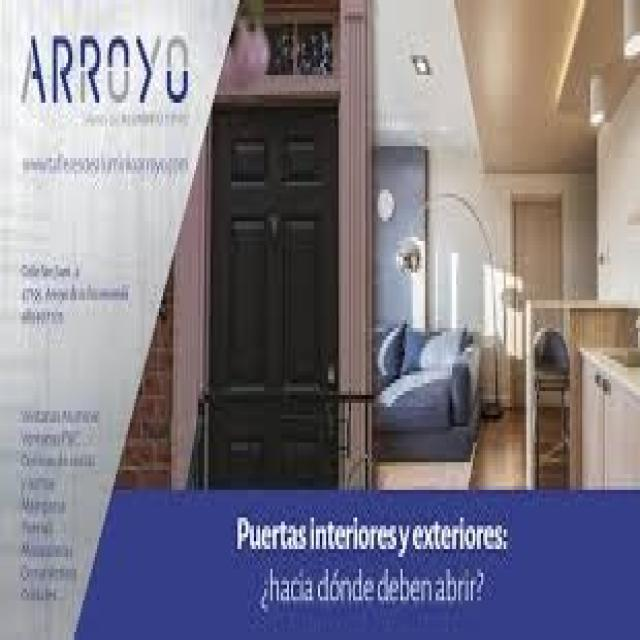door: (206, 103, 340, 490)
